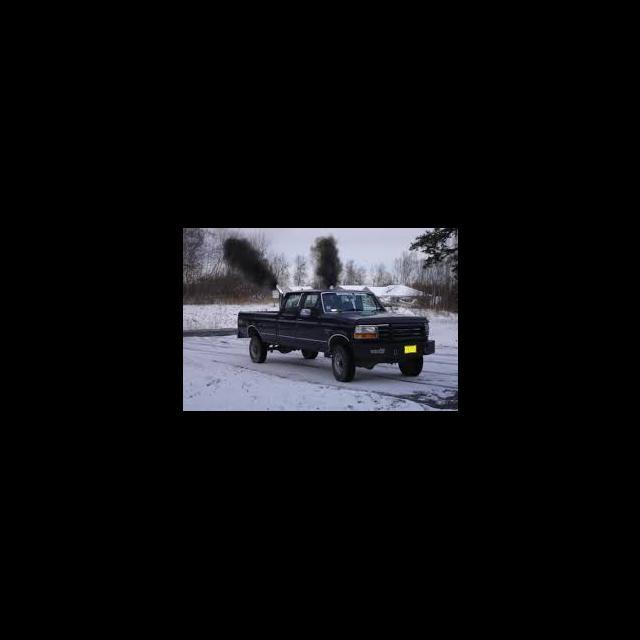Smoke: (222, 234, 276, 294), (315, 234, 344, 286)
